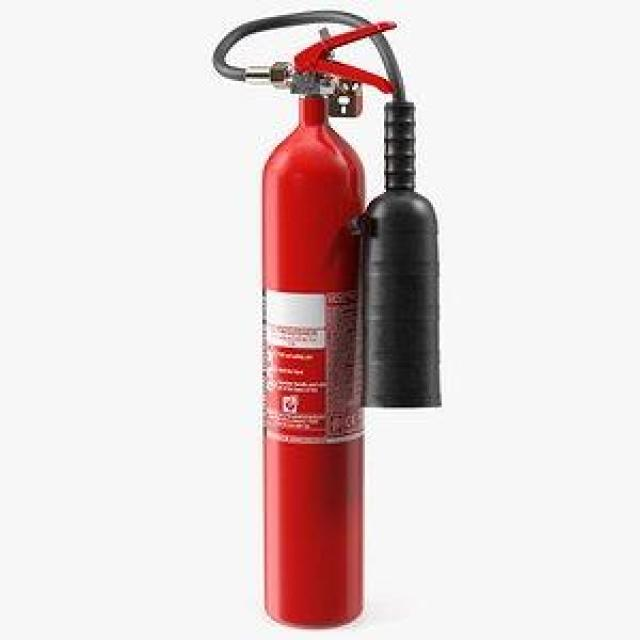fire_extinguisher: (203, 3, 448, 637)
